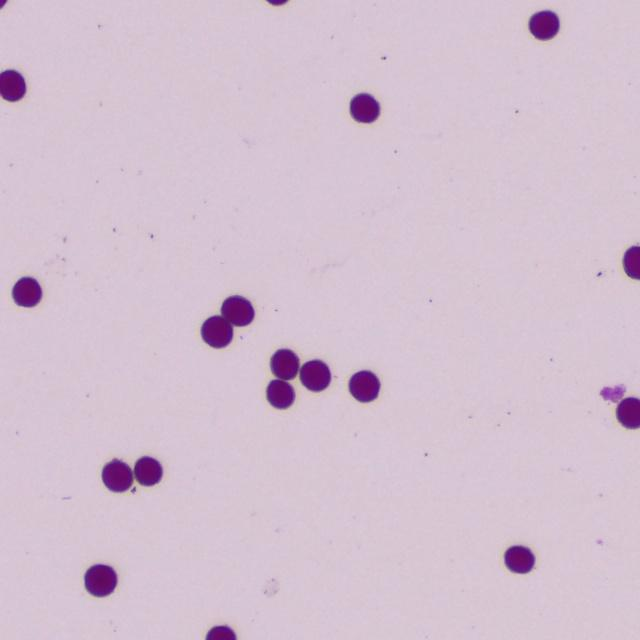viable: (85, 564, 117, 596), (349, 370, 380, 402), (201, 316, 232, 348), (102, 459, 132, 492), (221, 296, 254, 325), (300, 360, 330, 391), (529, 10, 559, 39), (12, 277, 41, 307), (270, 349, 299, 379), (350, 93, 379, 123), (504, 545, 534, 573), (266, 379, 294, 408), (134, 456, 162, 485), (0, 69, 25, 100), (616, 397, 639, 428), (623, 246, 639, 278), (206, 625, 236, 639), (267, 0, 287, 5)
